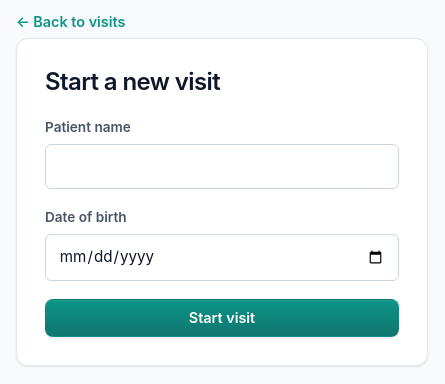
Test: NewEncounter › disables the submit button and swaps its label while busy
The image size is (445, 384).
In the field labelled "Patient name": (222, 167) [45,144,399,189], type "Jane Doe"
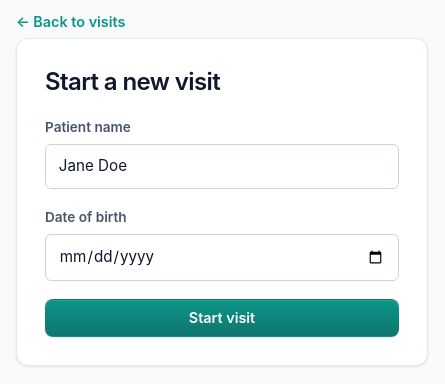
In the date field labelled "Date of birth": (222, 258) [45,234,399,281], type "1990-01-01"
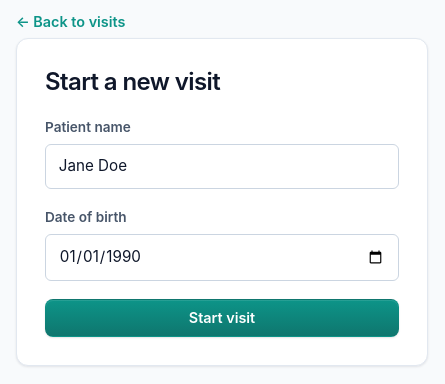
Click the button "Start visit": (222, 318) [45,299,399,337]
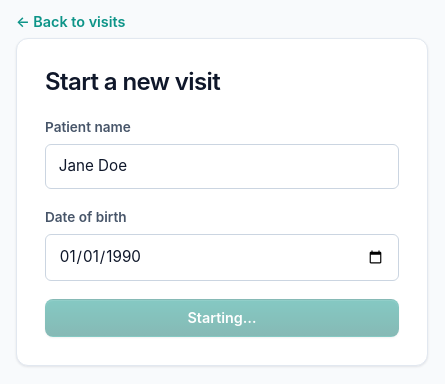
Now the button "Starting…" is disabled, box [45,299,399,337]
